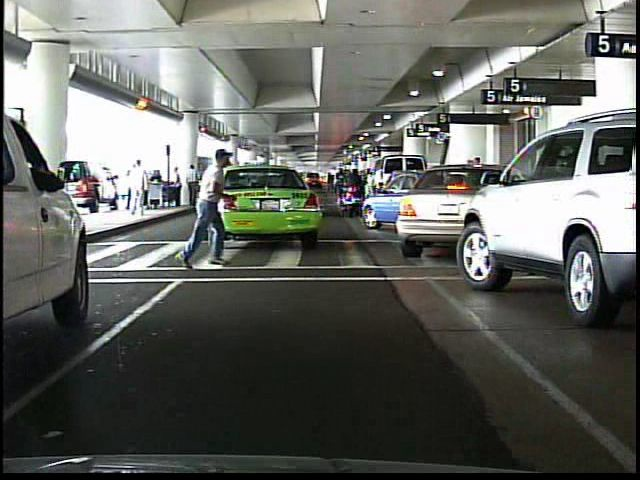person: (180, 148, 234, 270)
